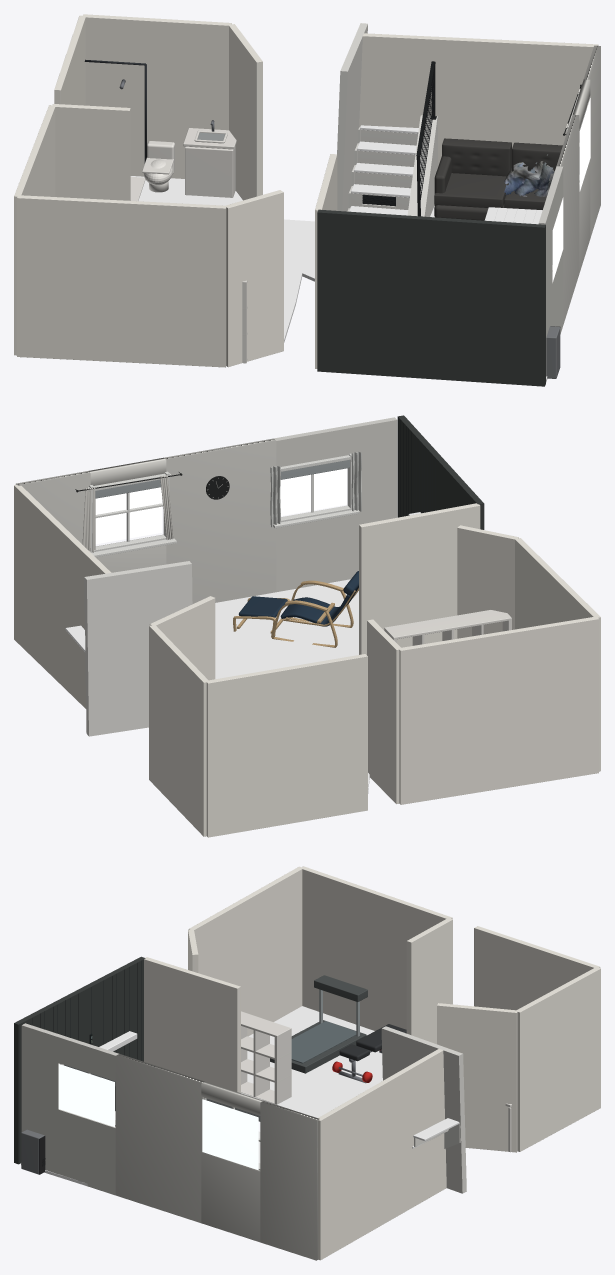
3 renders of one model, top to bottom at view 1: azimuth 30°, elevation 25°; view 2: azimuth 150°, elevation 25°; view 3: azimuth 270°, elevation 25°, orthographic. The views are drawn at different scales.
Parts seen in each view (by area): view 1: source-wall-8-replacement, home-lower-level_observed_wall_0_panel, home-lower-level_observed_wall_6_panel, home-lower-level_observed_wall_4_panel, home-lower-level_observed_wall_10_panel, home-lower-level_observed_wall_2_panel, home-lower-level_observed_wall_5_panel, home-lower-level_independently_traced_floor, source white stair-side wall, measured plane, inferred crop , actual-second-window-wall-between-windows, home-lower-level_observed_wall_1_panel, home-lower-level__bath_vanity__cabinet (+27 smaller); view 2: home-lower-level_observed_wall_1_panel, home-lower-level_observed_wall_3_panel, actual-second-window-wall-between-windows, source white stair-side wall, measured plane, inferred crop , home-lower-level_observed_wall_9_panel, home-lower-level_observed_wall_6_panel, home-lower-level_observed_wall_4_panel, home-lower-level_independently_traced_floor, home-lower-level_observed_wall_10_panel, home-lower-level_observed_wall_2_panel, source-wall-8-replacement, actual-window-cutout-wall-below (+16 smaller); view 3: home-lower-level_observed_wall_6_panel, home-lower-level_observed_wall_1_panel, actual-second-window-wall-between-windows, home-lower-level_observed_wall_4_panel, home-lower-level_observed_wall_0_panel, home-lower-level_observed_wall_9_panel, home-lower-level_observed_wall_5_panel, actual-second-window-wall-rightof-second, source-wall-8-replacement, home-lower-level_observed_wall_3_panel, home-lower-level_independently_traced_floor, home-lower-level_observed_wall_2_panel (+15 smaller).
Part boxes in pixels (box(x1,y1,x2,y2)): source-wall-8-replacement: box(317, 209, 545, 386); home-lower-level_observed_wall_0_panel: box(17, 195, 226, 367); home-lower-level_observed_wall_6_panel: box(357, 33, 598, 188); home-lower-level_observed_wall_4_panel: box(83, 14, 231, 178); home-lower-level_observed_wall_10_panel: box(226, 190, 283, 367); home-lower-level_observed_wall_2_panel: box(52, 104, 130, 200); home-lower-level_observed_wall_5_panel: box(229, 24, 262, 200); home-lower-level_independently_traced_floor: box(130, 176, 547, 382); source white stair-side wall, measured plane, inferred crop : box(337, 23, 367, 211); actual-second-window-wall-between-windows: box(556, 115, 579, 324); home-lower-level_observed_wall_1_panel: box(14, 105, 55, 355); home-lower-level__bath_vanity__cabinet: box(185, 146, 235, 197); home-lower-level_observed_wall_1_panel: box(399, 617, 598, 804); home-lower-level_observed_wall_3_panel: box(206, 654, 367, 837); actual-second-window-wall-between-windows: box(164, 438, 276, 603); source white stair-side wall, measured plane, inferred crop : box(84, 561, 192, 736); home-lower-level_observed_wall_9_panel: box(359, 503, 480, 654); home-lower-level_observed_wall_6_panel: box(14, 485, 111, 708); home-lower-level_observed_wall_4_panel: box(149, 624, 207, 836); home-lower-level_independently_traced_floor: box(215, 579, 369, 793); home-lower-level_observed_wall_10_panel: box(457, 525, 518, 638); home-lower-level_observed_wall_2_panel: box(367, 619, 401, 803); source-wall-8-replacement: box(397, 415, 484, 529); actual-window-cutout-wall-below: box(276, 505, 350, 592); home-lower-level_observed_wall_6_panel: box(318, 1049, 446, 1260); home-lower-level_observed_wall_1_panel: box(302, 866, 452, 1030); actual-second-window-wall-between-windows: box(115, 1054, 204, 1222); home-lower-level_observed_wall_4_panel: box(515, 967, 600, 1151); home-lower-level_observed_wall_0_panel: box(188, 866, 303, 1036); home-lower-level_observed_wall_9_panel: box(144, 957, 240, 1092); home-lower-level_observed_wall_5_panel: box(437, 1003, 517, 1152); actual-second-window-wall-rightof-second: box(260, 1101, 319, 1260); source-wall-8-replacement: box(14, 956, 145, 1164); home-lower-level_observed_wall_3_panel: box(474, 926, 600, 1010); home-lower-level_independently_traced_floor: box(21, 1006, 382, 1186); home-lower-level_observed_wall_2_panel: box(406, 918, 452, 1044).
Bounding box in the file's own units: 8.99 × 2.3 × 8.76.
